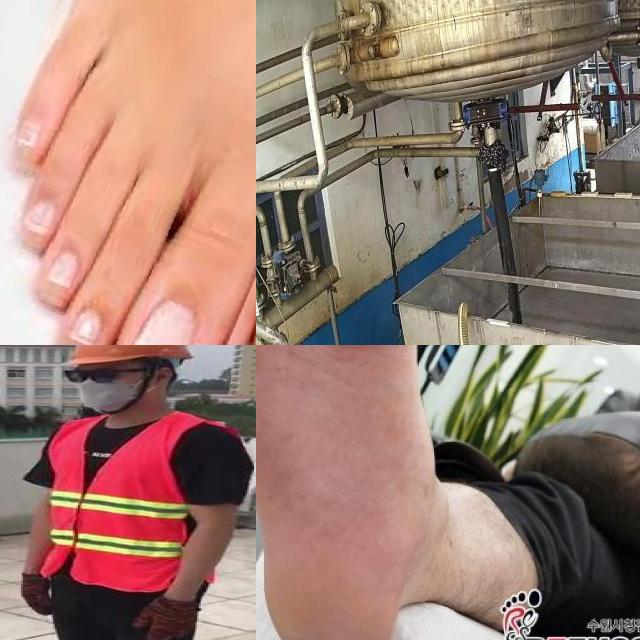Barefoots: (0, 0, 256, 345), (256, 345, 445, 640)
face_mask: (65, 364, 141, 413)
glasses: (59, 364, 127, 386)
hand_glove: (133, 596, 199, 640), (19, 572, 52, 617)
head_helmet: (64, 345, 190, 367)
person: (5, 345, 256, 640)
vest: (44, 414, 210, 588)
